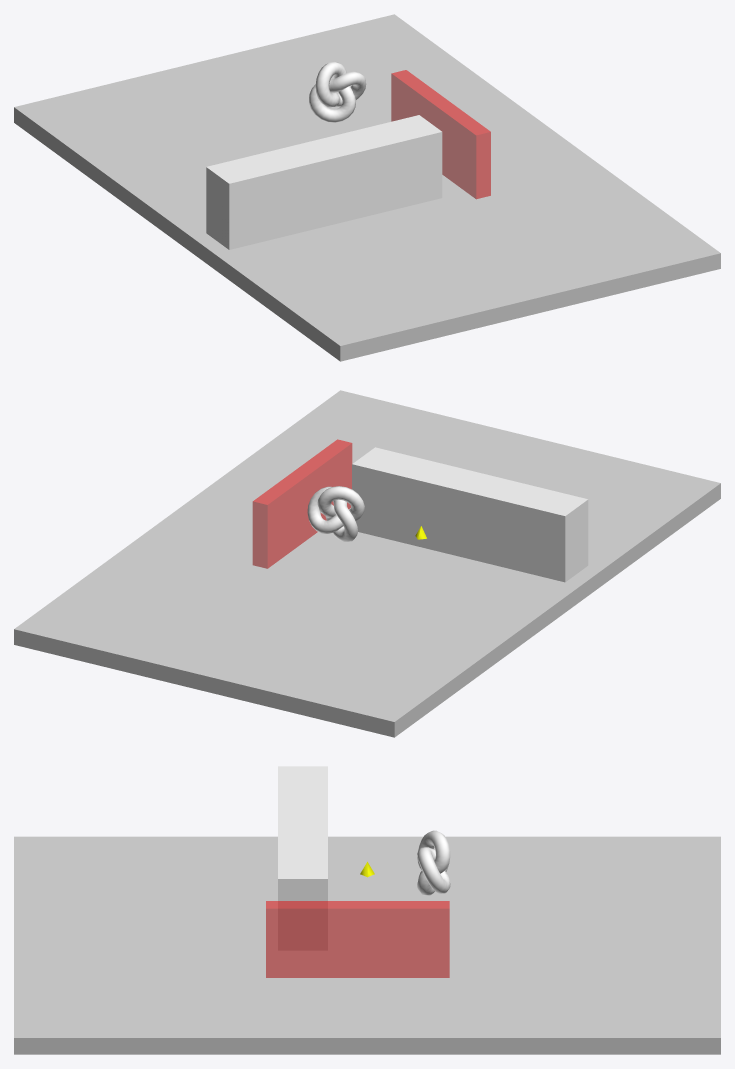
3 views of the same model, one above another, from view 1: azimuth 30°, elevation 25°; view 2: azimuth 150°, elevation 25°; view 3: azimuth 270°, elevation 25° (orthographic). The views are drawn at different scales.
Visible parts, largest first — view 1: Box (×3), TorusKnot; view 2: Box (×3), TorusKnot; view 3: Box (×3), TorusKnot.
Part boxes in pixels (x1,y1,x2,y2): Box (×3): [14, 14, 720, 361]; TorusKnot: [309, 61, 366, 122]; Box (×3): [14, 390, 720, 737]; TorusKnot: [307, 486, 364, 541]; Box (×3): [14, 766, 720, 1054]; TorusKnot: [417, 830, 450, 895].
Bounding box in the file's own units: 25.53 × 7.04 × 37.93.
